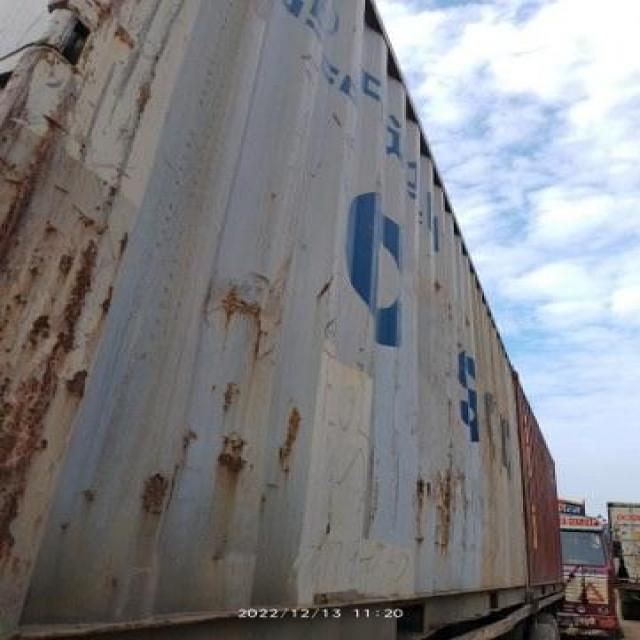Rust: (6, 19, 132, 558), (211, 276, 282, 348), (275, 405, 316, 468), (218, 427, 258, 480), (148, 471, 177, 520)
